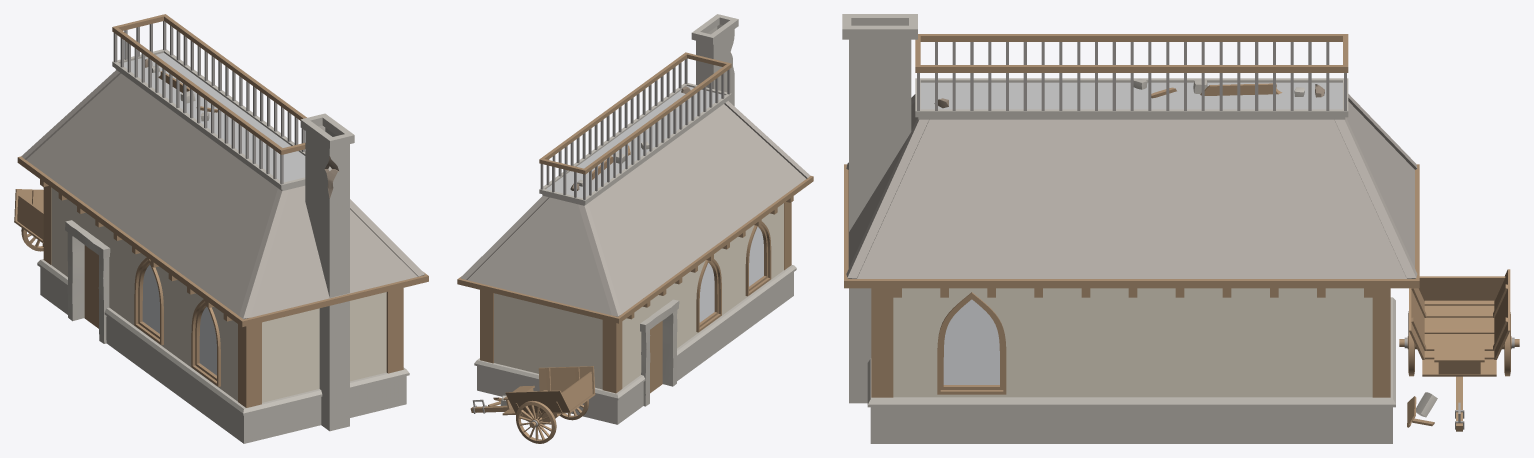
File: kb3d_bldg_sm_g.glb
3 renders of one model, left to right at view 1: azimuth 30°, elevation 25°; view 2: azimuth 150°, elevation 25°; view 3: azimuth 270°, elevation 25°, orthographic. The views are drawn at different scales.
Visible parts, largest first — view 1: EXPORT_kb3d_bldg_sm_g; view 2: EXPORT_kb3d_bldg_sm_g; view 3: EXPORT_kb3d_bldg_sm_g.
Boxes of the visible parts, bbox=[...] form: EXPORT_kb3d_bldg_sm_g: bbox=[14, 14, 428, 443]; EXPORT_kb3d_bldg_sm_g: bbox=[457, 14, 813, 443]; EXPORT_kb3d_bldg_sm_g: bbox=[842, 14, 1519, 443].
Size of the model in its own units: 4.04 by 6.06 by 9.9.
